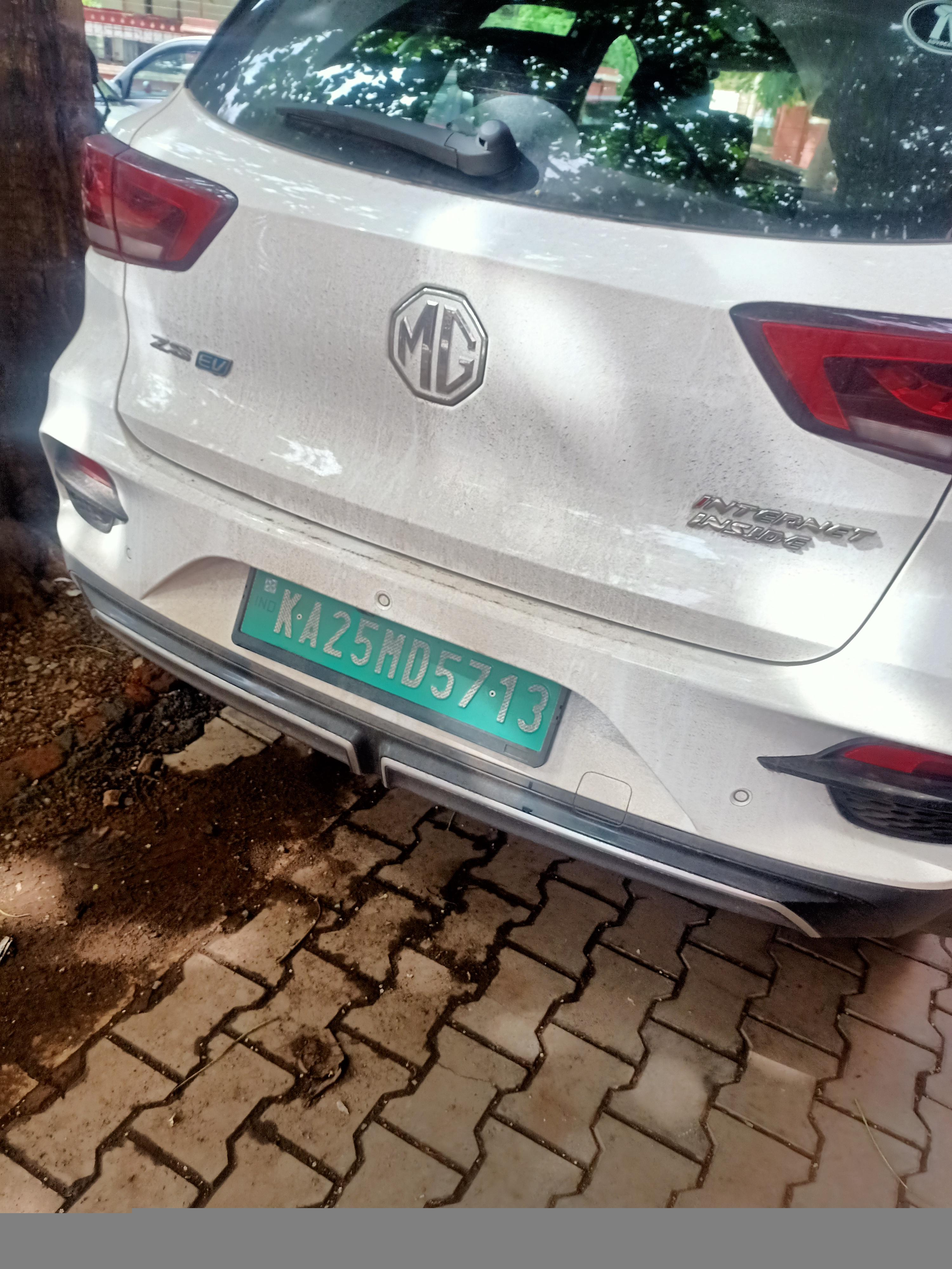green license plate: (227, 564, 580, 770)
